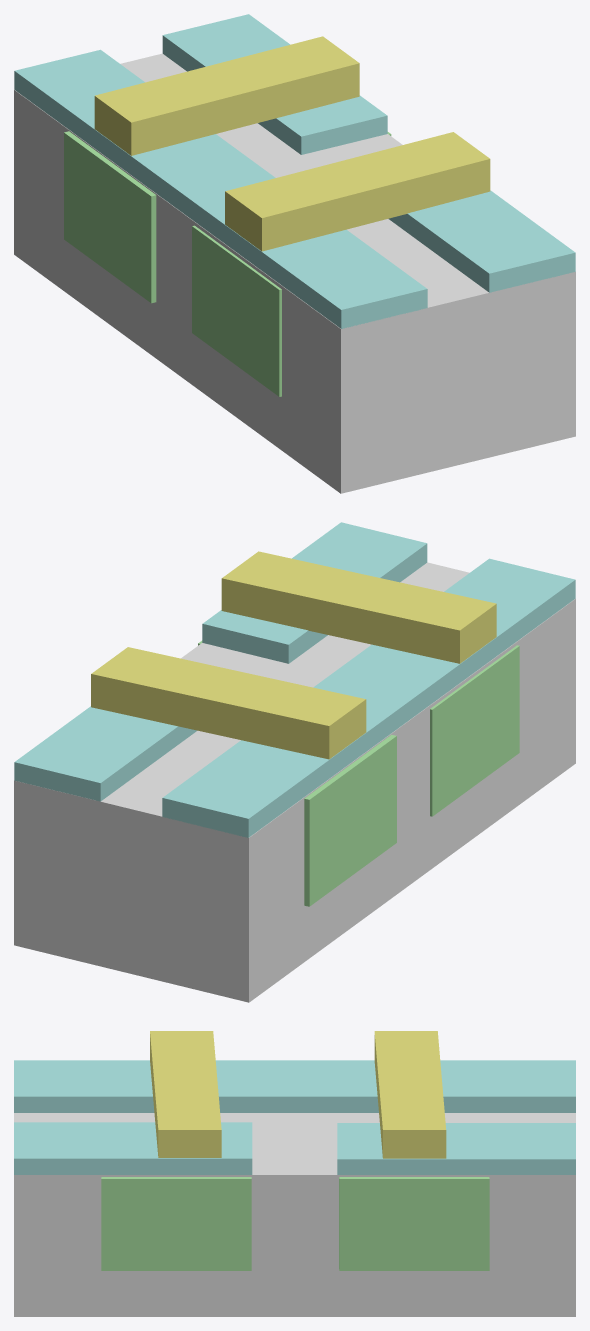
File: deposition.gltf
3 views of the same model, one above another, from view 1: azimuth 30°, elevation 25°; view 2: azimuth 150°, elevation 25°; view 3: azimuth 270°, elevation 25° (orthographic). The views are drawn at different scales.
Parts seen in each view (by area): view 1: Cube, Cube.003, Cube.006, Cube.007, Cube.004, Cube.005, Cube.002, Cube.001; view 2: Cube, Cube.003, Cube.006, Cube.007, Cube.005, Cube.002, Cube.001, Cube.004; view 3: Cube, Cube.003, Cube.002, Cube.005, Cube.004, Cube.001, Cube.006, Cube.007.
Part boxes in pixels (x1,y1,x2,y2): Cube: (14,53,575,493); Cube.003: (14,49,427,328); Cube.006: (94,36,359,155); Cube.007: (225,132,490,251); Cube.004: (388,190,575,292); Cube.005: (64,131,391,303); Cube.002: (192,225,281,396); Cube.001: (162,14,387,154); Cube: (14,562,575,1002); Cube.003: (162,558,575,837); Cube.006: (91,647,366,759); Cube.007: (221,551,496,663); Cube.005: (304,734,396,906); Cube.002: (198,640,519,816); Cube.001: (14,706,196,801); Cube.004: (202,522,427,663); Cube: (14,1113,575,1316); Cube.003: (14,1060,575,1112); Cube.002: (101,1177,251,1270); Cube.005: (339,1177,489,1270); Cube.004: (14,1122,252,1174); Cube.001: (337,1123,575,1174); Cube.006: (374,1031,446,1158); Cube.007: (150,1031,221,1157).
Size of the model in its own units: 2.08 by 1.77 by 4.82.
